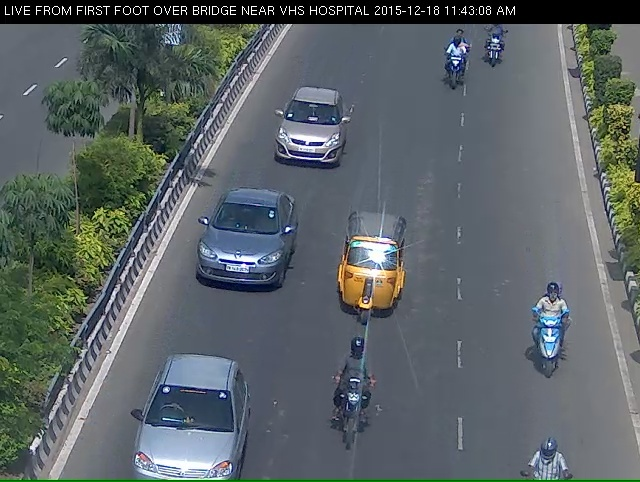Car: (185, 199, 291, 313), (122, 387, 242, 480), (332, 217, 410, 347), (261, 92, 359, 181)
Person: (510, 301, 594, 413), (317, 367, 385, 476), (438, 45, 467, 102), (483, 29, 515, 72)
